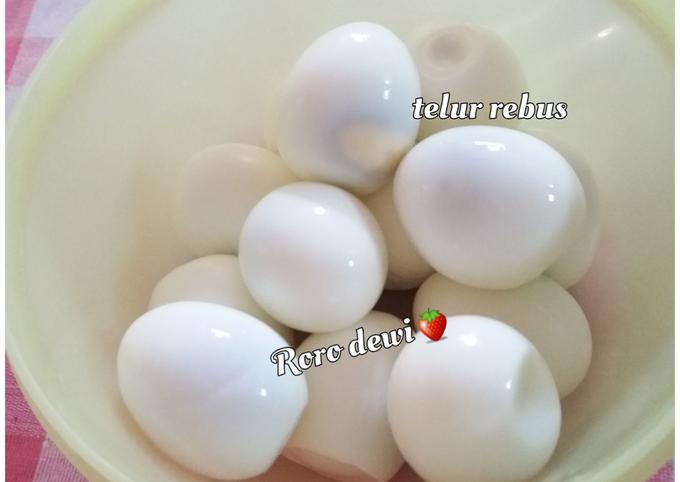Telur: (101, 301, 315, 434), (388, 315, 546, 470), (379, 116, 558, 249), (274, 47, 431, 185), (250, 190, 393, 322)
